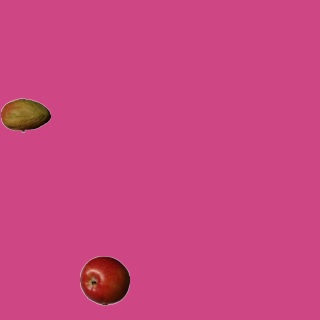Apple Braeburn: (79, 255, 129, 305)
Papaya: (0, 90, 50, 140)
